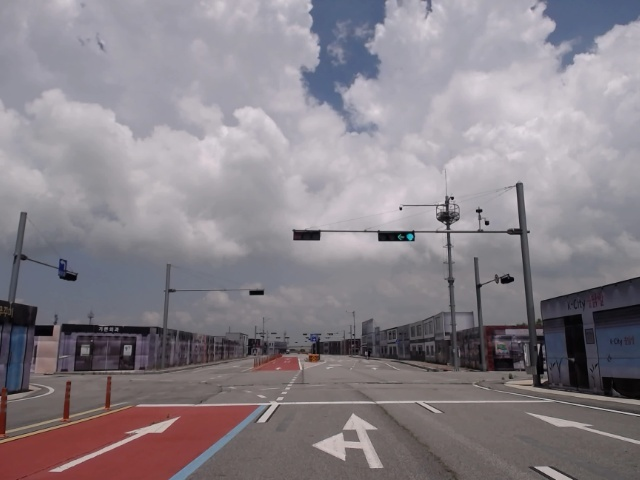all_green_4: (377, 232, 417, 243)
